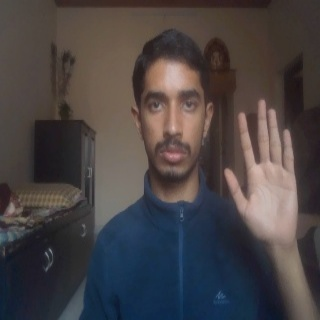Face: (129, 28, 215, 184)
Hello: (222, 97, 301, 255)
